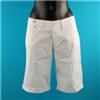bermuda: (22, 15, 83, 94)
